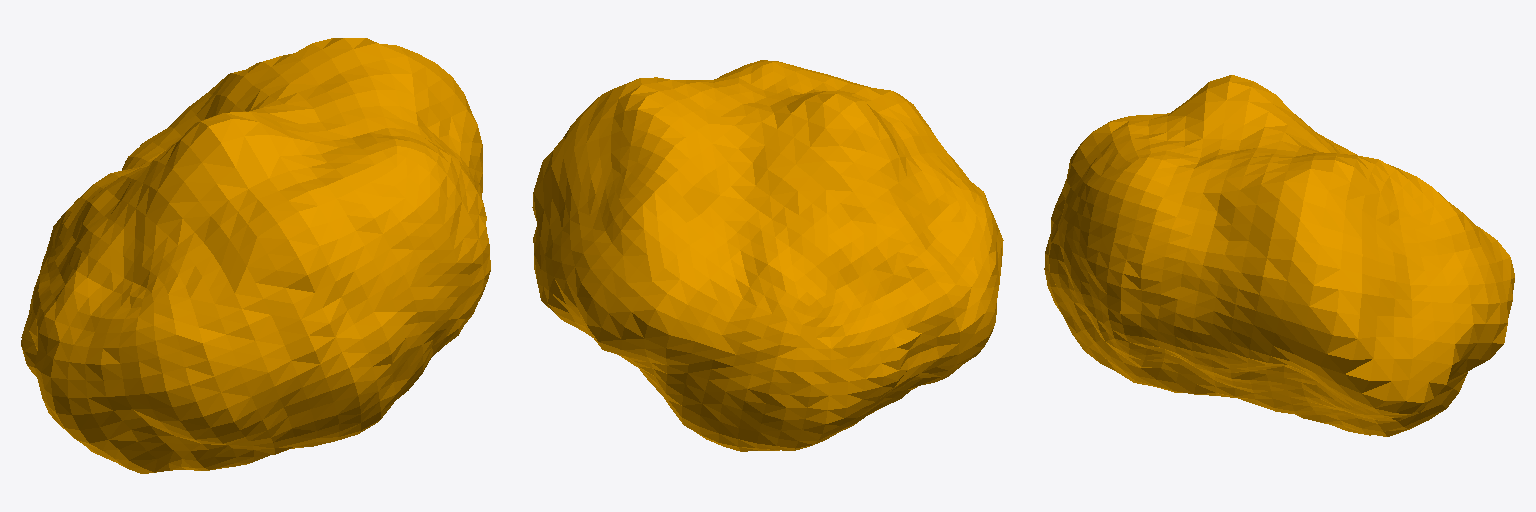
robot.urdf — rock:
<?xml version="1.0" ?>
<robot name="rock">
  <link name="rock">
    <inertial>
      <mass value="0.205"/>
      <origin rpy="0 0 0" xyz="0 0 0"/>
      <inertia ixx="0.000205" ixy="0" ixz="0" iyy="0.000205" iyz="0" izz="0.000205"/>
    </inertial>
    <collision name="rock_collision">
      <origin rpy="0 0 0" xyz="0 0 0"/>
      <geometry>
        <mesh filename="package://rocks/visual/75.dae" scale="1 1 1"/>
      </geometry>
    </collision>
    <visual name="rock_visual">
      <origin rpy="0 0 0" xyz="0 0 0"/>
      <geometry>
        <mesh filename="package://rocks/visual/75.dae" scale="1 1 1"/>
      </geometry>
    </visual>
  </link>
</robot>

--- Facts derived from the render (not from the file) ---
3 views of the same robot in one strip: view 1: azimuth 30°, elevation 25°; view 2: azimuth 150°, elevation 25°; view 3: azimuth 270°, elevation 25° (orthographic).
Model rock with 1 links and 0 joints (none), rooted at rock, posed every joint at zero.
Links seen in each view (by area): view 1: rock; view 2: rock; view 3: rock.
Boxes of the visible links, left/top/right/bottom form: rock: left=21, top=38, right=490, bottom=473; rock: left=532, top=60, right=1003, bottom=451; rock: left=1044, top=75, right=1514, bottom=436.
Bounding box of the posed robot: 0.0849 × 0.0787 × 0.0621 m (x, y, z).
Meshes: 1 distinct files referenced, 1 mesh visuals loaded (1 Collada DAE).